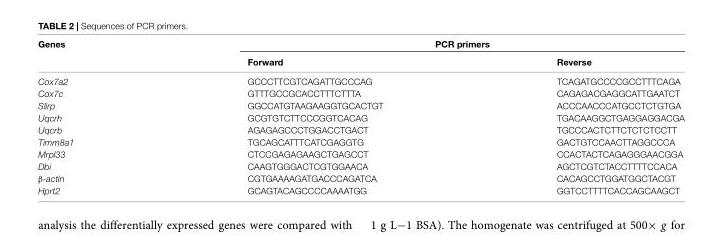table: (37, 37, 683, 195)
table column: (160, 37, 469, 195), (469, 37, 683, 195), (37, 37, 160, 195)
table column header: (37, 37, 683, 70)
table row: (37, 52, 683, 70), (37, 70, 683, 86), (37, 37, 683, 52), (37, 110, 683, 123), (37, 86, 683, 98), (37, 98, 683, 110), (37, 123, 683, 135), (37, 135, 683, 147), (37, 147, 683, 159), (37, 159, 683, 171), (37, 171, 683, 183), (37, 183, 683, 195)
table spanning cell: (160, 37, 683, 52), (37, 37, 160, 70)
